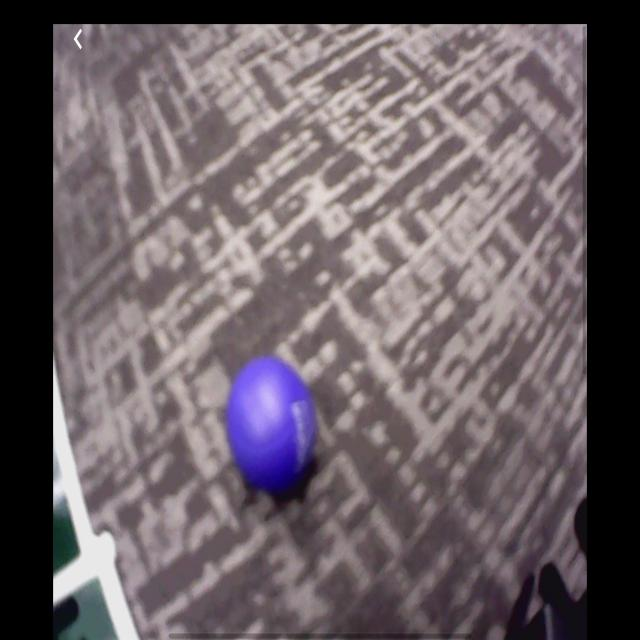ball: (226, 356, 316, 501)
